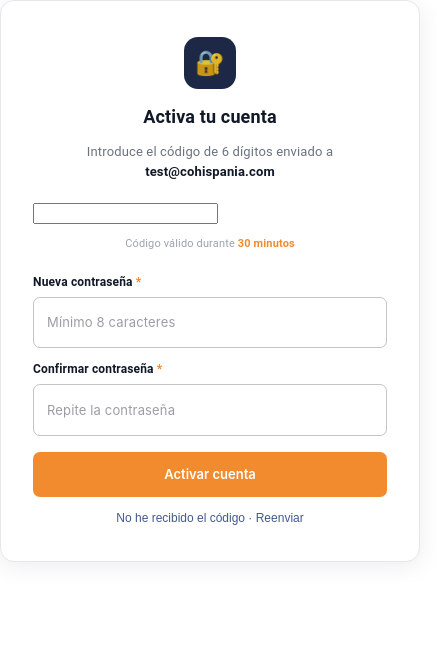
Test: AuthCodeForm › muestra error si el código está incompleto
What coordinates should you click on to do the following:
click the button "Activar cuenta"
I would click on:
 (210, 474)
Its box is [33,452,387,497].
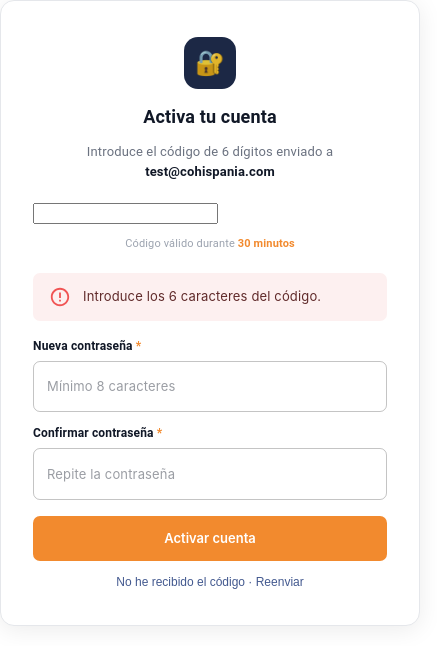
Expected: the text "Introduce los 6 caracteres del código." is shown, [83,288,321,304]
